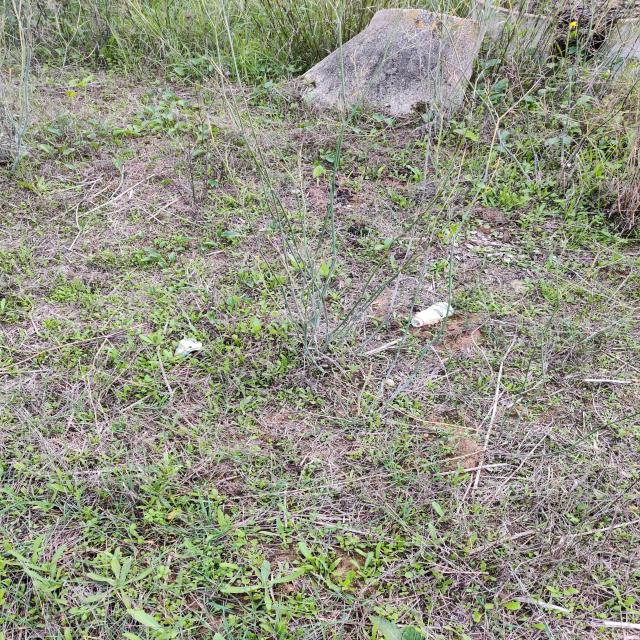litter: (411, 302, 455, 327), (173, 337, 205, 357)
